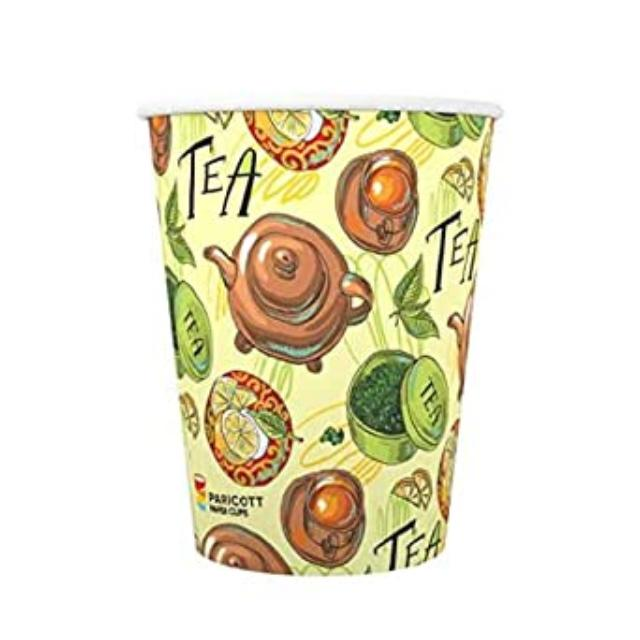trash: (134, 94, 504, 580)
